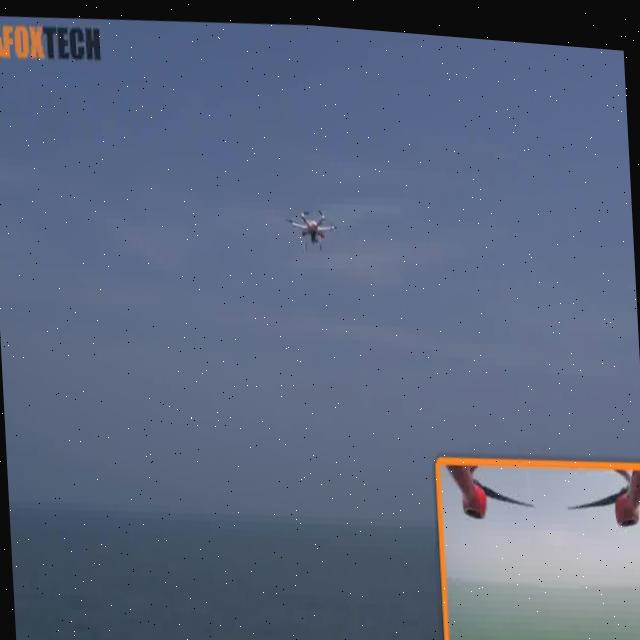drone: (286, 181, 342, 255)
